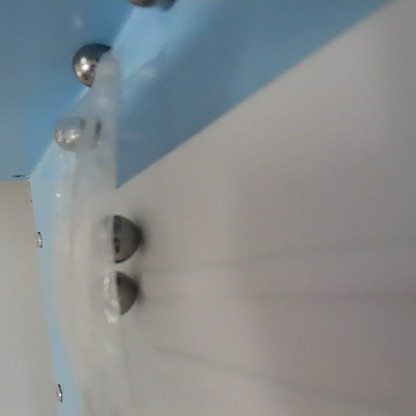ironball: (87, 212, 141, 266), (85, 266, 140, 316), (70, 40, 112, 88), (63, 114, 100, 150), (51, 114, 68, 150), (125, 0, 174, 9)
